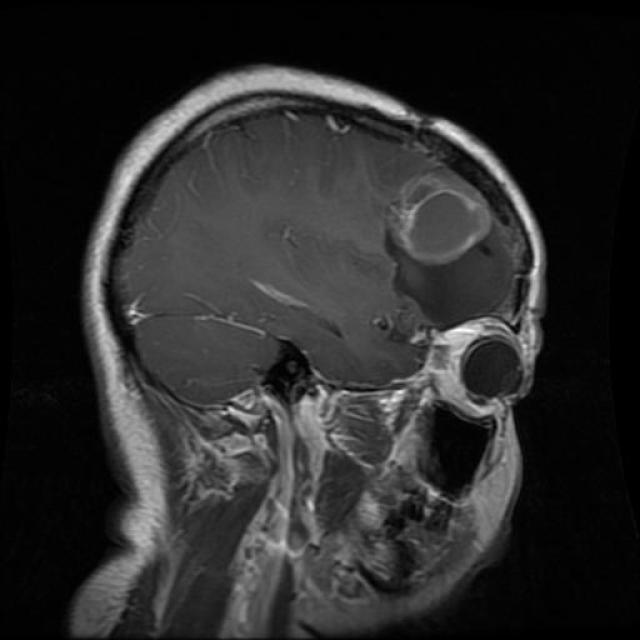glioma: (388, 172, 502, 268)
